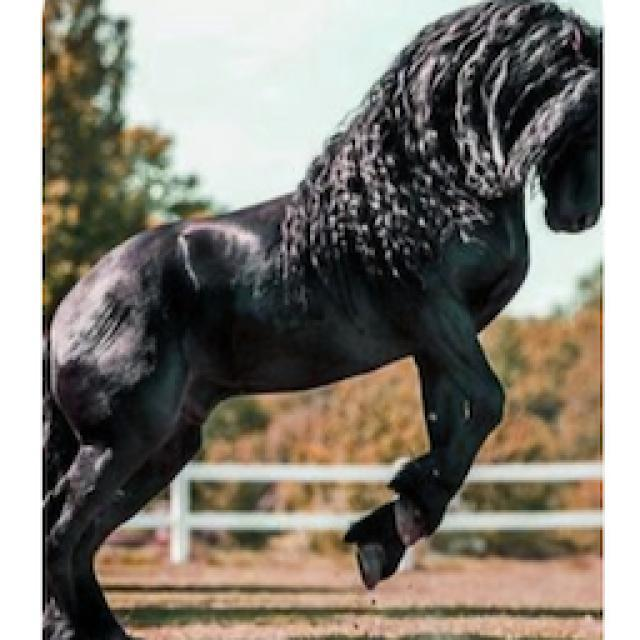Horse: (40, 0, 602, 638)
